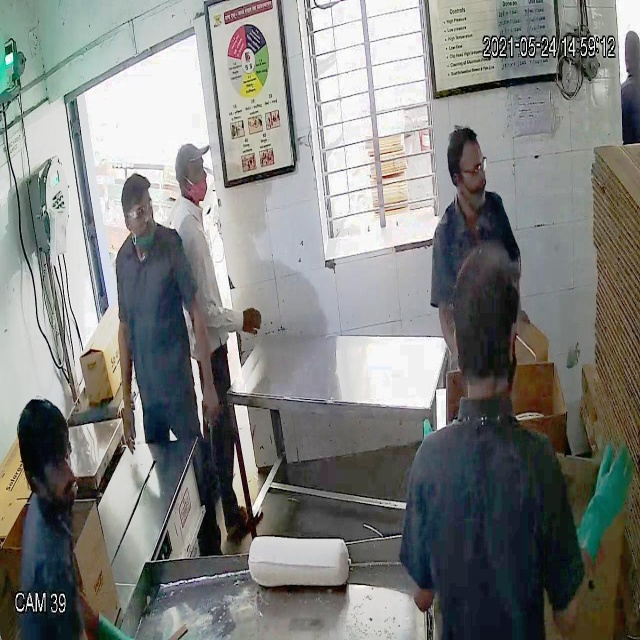Gafas: (446, 154, 490, 184), (121, 196, 155, 223)
